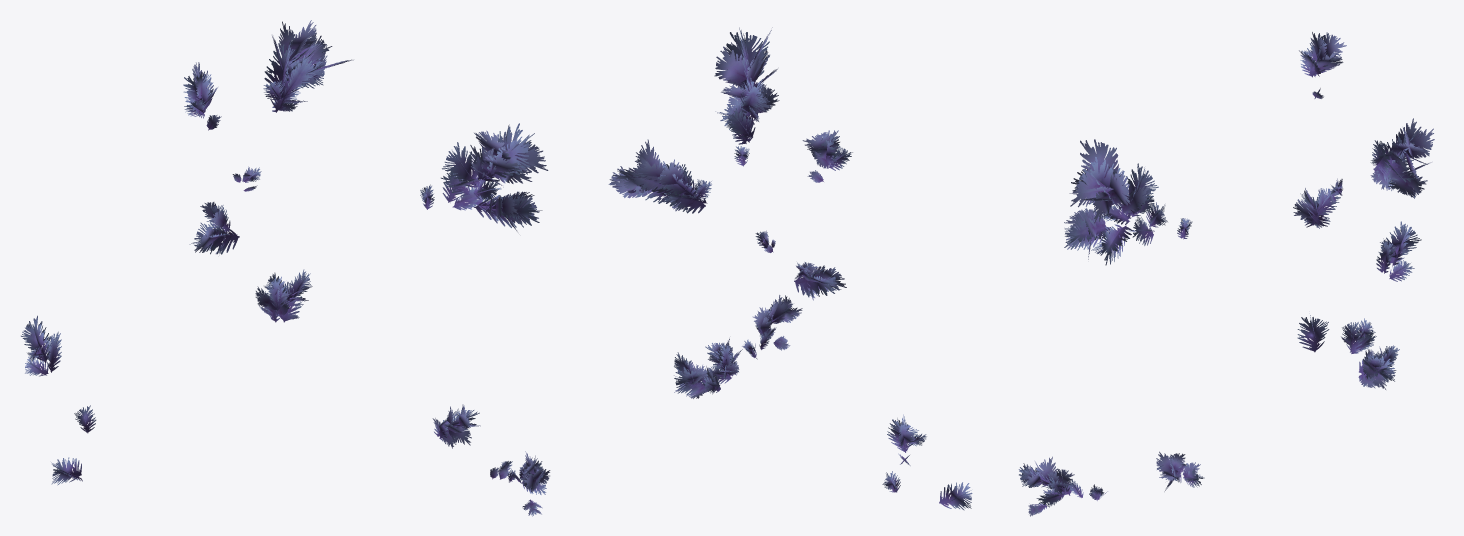
File: Homeworld_General_Common_Thing_Prop_Irodori_Bcackforward_01_B_Vo.fbx
3 views of the same model, side by side, from view 1: azimuth 30°, elevation 25°; view 2: azimuth 150°, elevation 25°; view 3: azimuth 270°, elevation 25° (orthographic). The views are drawn at different scales.
Visible parts, largest first — view 1: Homeworld_General_Common_Thing_Prop_Irodori_Bcackforward_01_; view 2: Homeworld_General_Common_Thing_Prop_Irodori_Bcackforward_01_; view 3: Homeworld_General_Common_Thing_Prop_Irodori_Bcackforward_01_.
Boxes of the visible parts, x1,y1,x2,y2 form: Homeworld_General_Common_Thing_Prop_Irodori_Bcackforward_01_: [21, 20, 550, 516]; Homeworld_General_Common_Thing_Prop_Irodori_Bcackforward_01_: [608, 27, 972, 510]; Homeworld_General_Common_Thing_Prop_Irodori_Bcackforward_01_: [1018, 32, 1434, 516].
Bounding box in the file's own units: 1.01 × 0.9737 × 0.9471.
